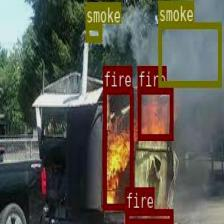fire: (103, 87, 133, 208), (137, 86, 172, 139), (125, 208, 173, 224)
smoke: (158, 21, 220, 86), (85, 23, 102, 41)
